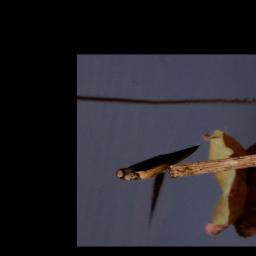Swallow: (115, 139, 203, 185)
